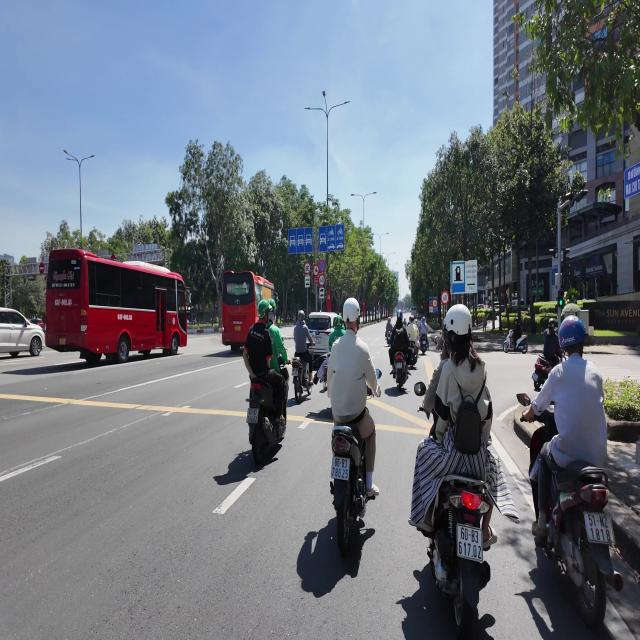car: (0, 308, 44, 357), (307, 312, 337, 357)
motorcycle: (536, 462, 623, 626), (423, 475, 491, 637), (330, 424, 374, 555), (247, 357, 288, 464), (292, 358, 312, 403), (532, 356, 555, 391), (394, 352, 409, 391), (420, 334, 428, 354), (386, 330, 391, 345)
